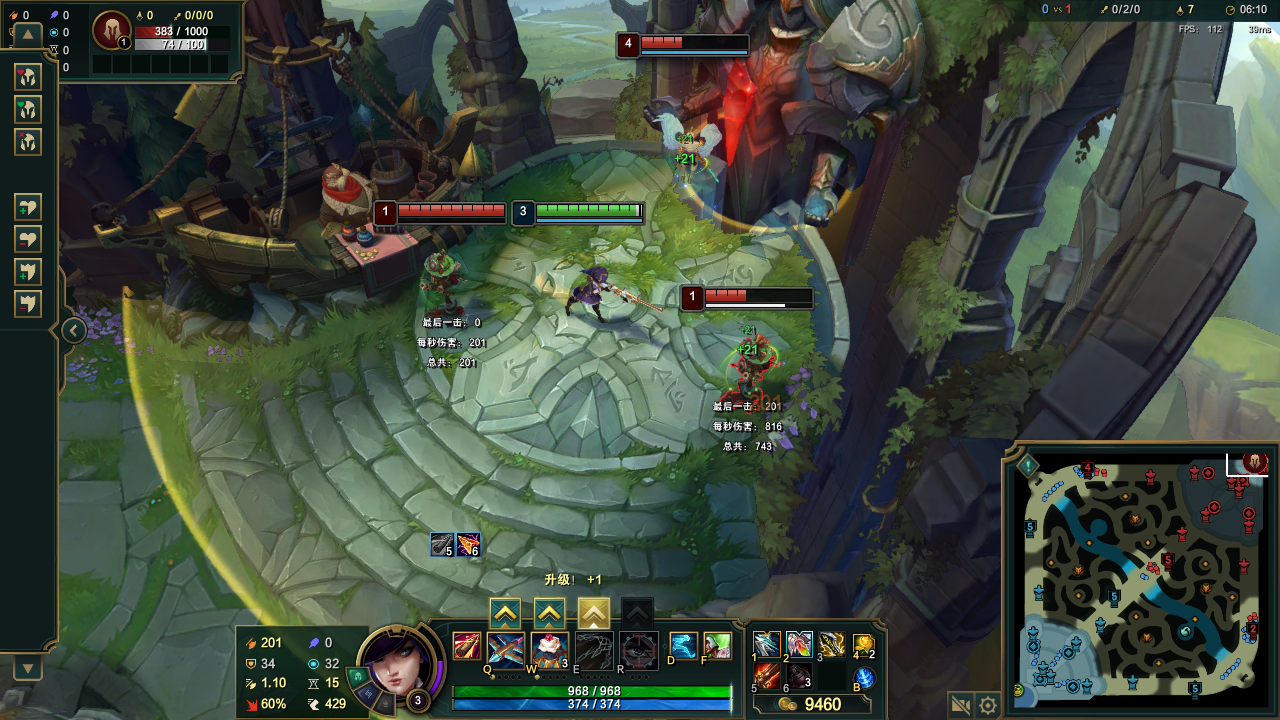DFYX: (703, 288, 817, 304), (639, 34, 752, 49), (398, 201, 508, 216)
